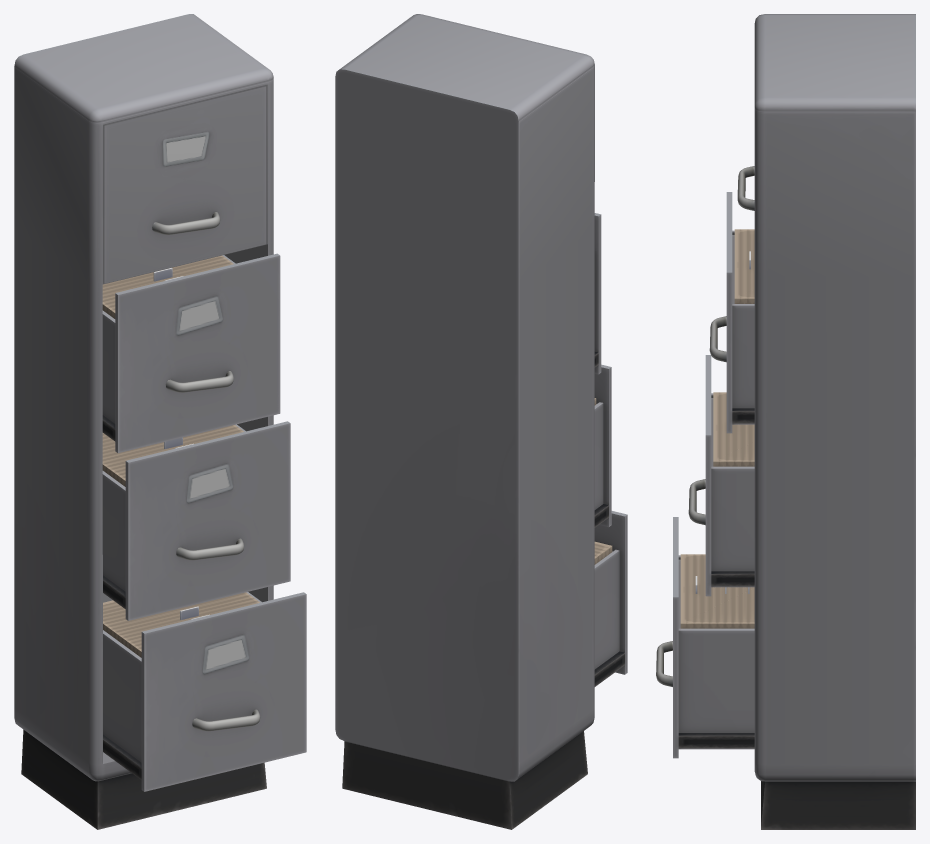
File: OfficeFileCabinet01_3.FBX
3 renders of one model, left to right at view 1: azimuth 30°, elevation 25°; view 2: azimuth 150°, elevation 25°; view 3: azimuth 270°, elevation 25°, orthographic.
Visible parts, largest first — view 1: OfficeFileCabinet01_3; view 2: OfficeFileCabinet01_3; view 3: OfficeFileCabinet01_3.
Part boxes in pixels (x1=…): OfficeFileCabinet01_3: x1=14, y1=14, x2=306, y2=829; OfficeFileCabinet01_3: x1=335, y1=14, x2=627, y2=829; OfficeFileCabinet01_3: x1=656, y1=14, x2=915, y2=829.
Size of what is drawn, in the model's own units: 0.44 by 1.65 by 0.5312.
